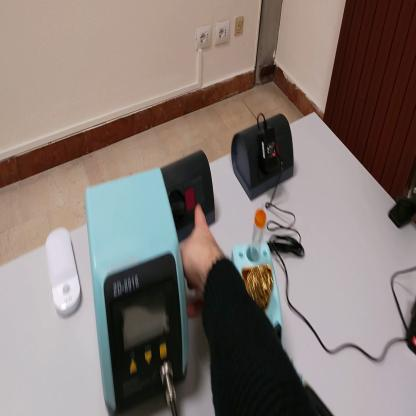electric screwdriver battery: (406, 299, 416, 363)
hand: (177, 203, 224, 304)
socket: (230, 116, 295, 202), (162, 153, 218, 248)
welder base: (233, 211, 282, 345)
welder station: (85, 169, 191, 416)
